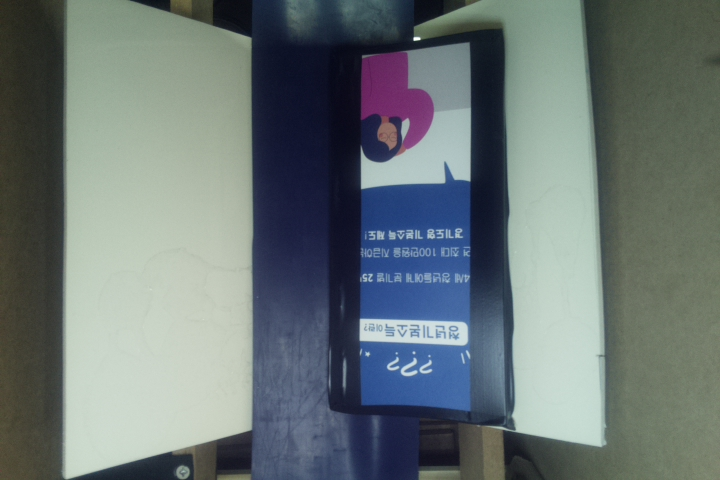book: (329, 27, 518, 427)
